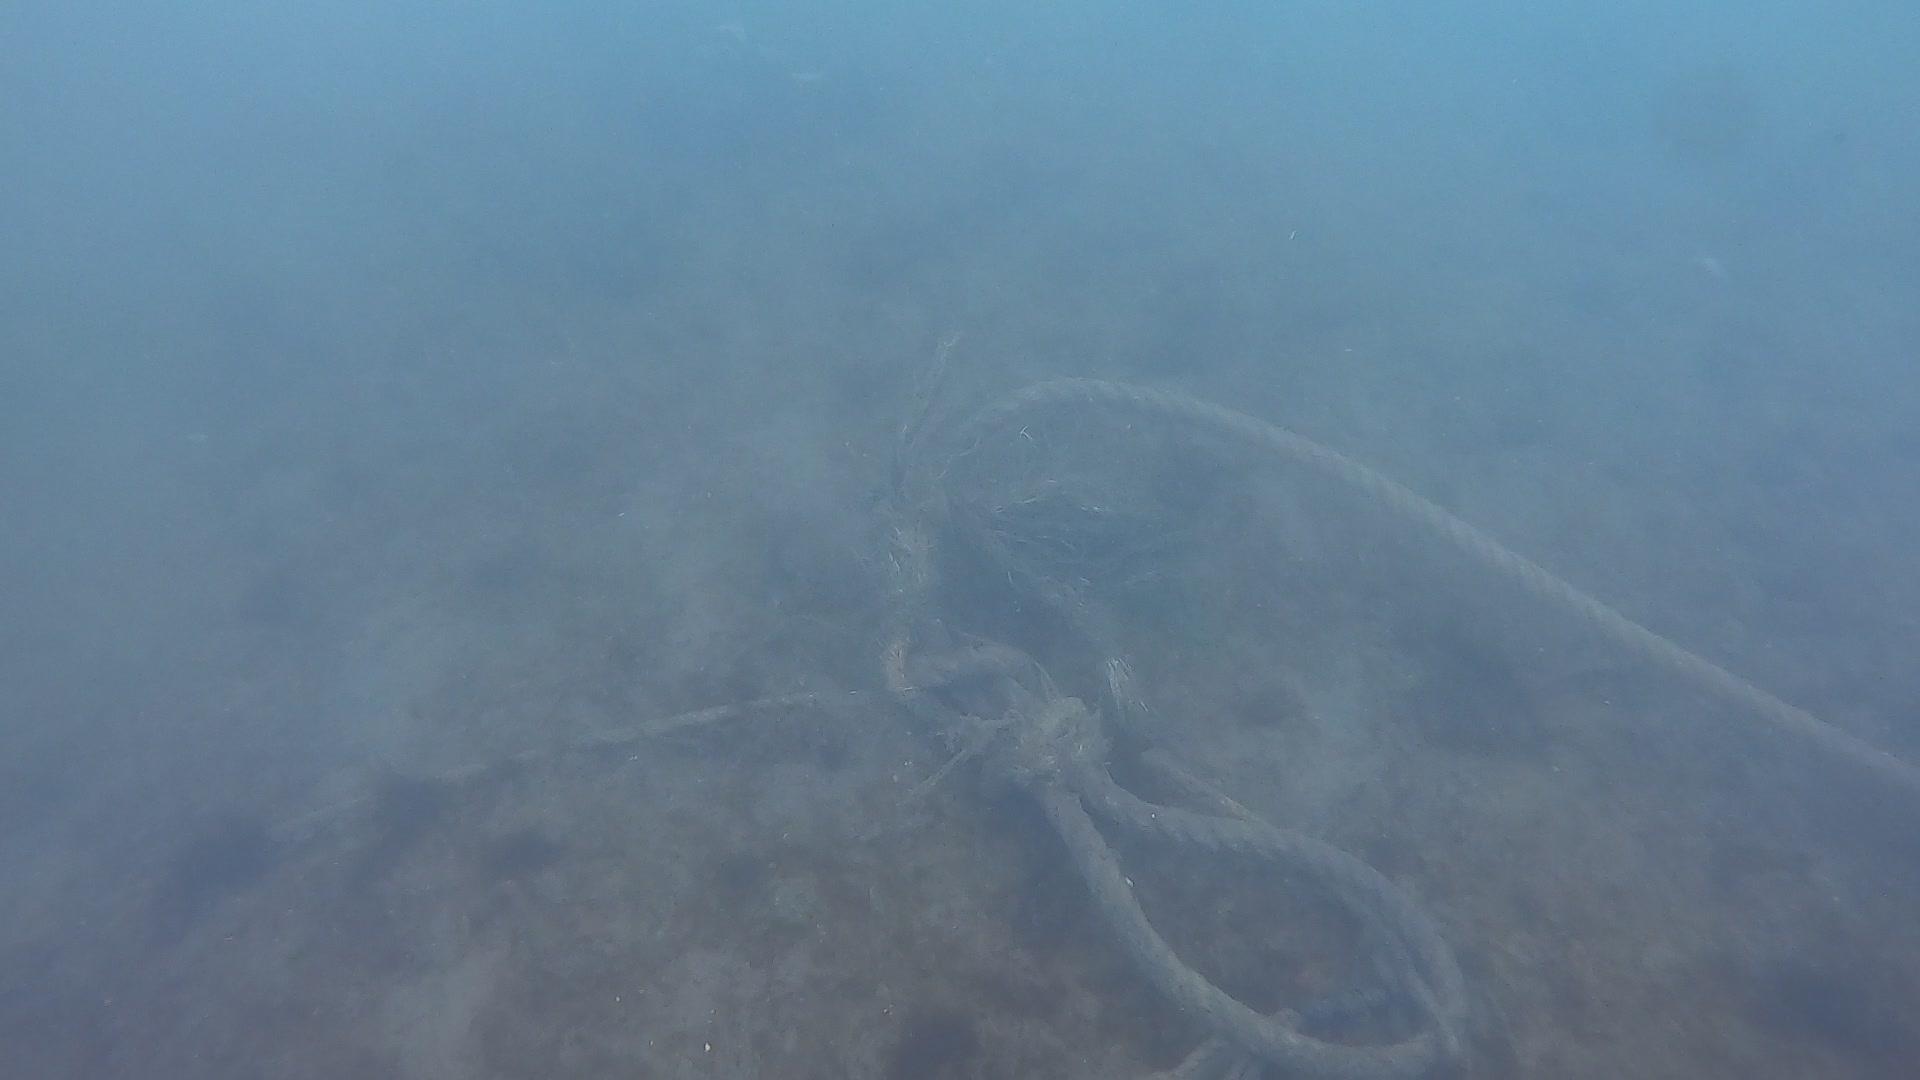bundle of ropes: (858, 360, 1920, 1080)
